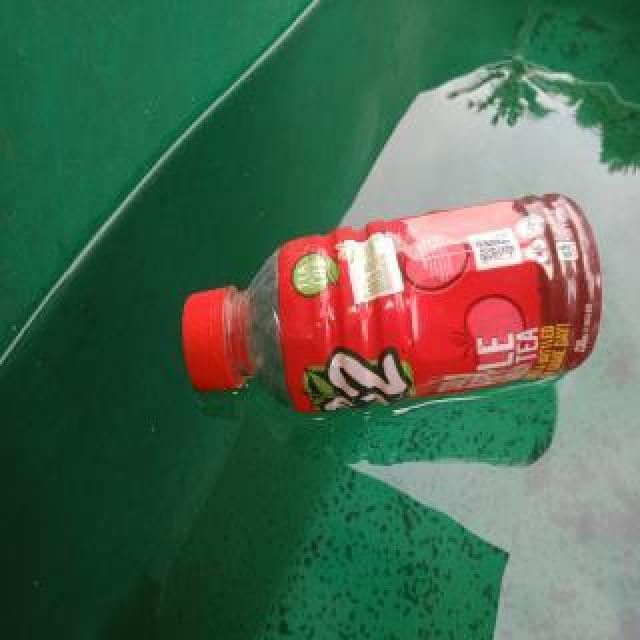bottle: (181, 191, 603, 417)
